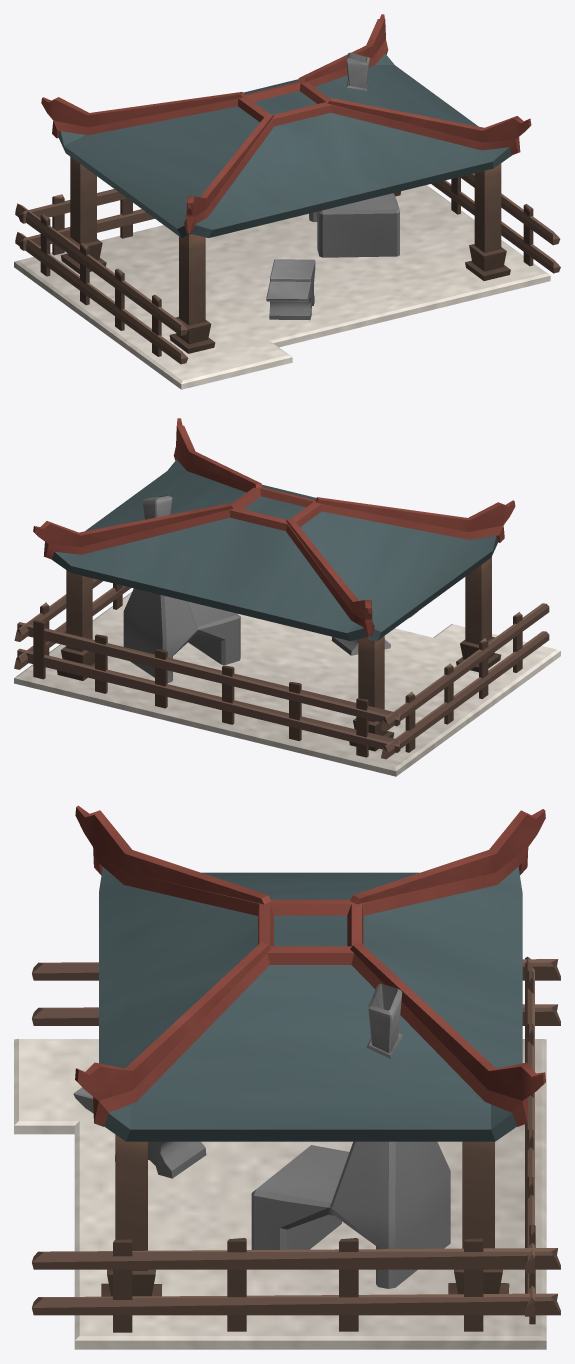
File: Blacksmith_1lvl.fbx
3 renders of one model, top to bottom at view 1: azimuth 30°, elevation 25°; view 2: azimuth 150°, elevation 25°; view 3: azimuth 270°, elevation 25°, orthographic. The views are drawn at different scales.
Visible parts, largest first — view 1: blacksmith_1lvl_color; view 2: blacksmith_1lvl_color; view 3: blacksmith_1lvl_color.
Boxes of the visible parts, x1=… form: blacksmith_1lvl_color: x1=14, y1=14, x2=560, y2=389; blacksmith_1lvl_color: x1=14, y1=418, x2=560, y2=776; blacksmith_1lvl_color: x1=14, y1=805, x2=560, y2=1349.
Bounding box in the file's own units: 6.01 × 2.64 × 4.6.
